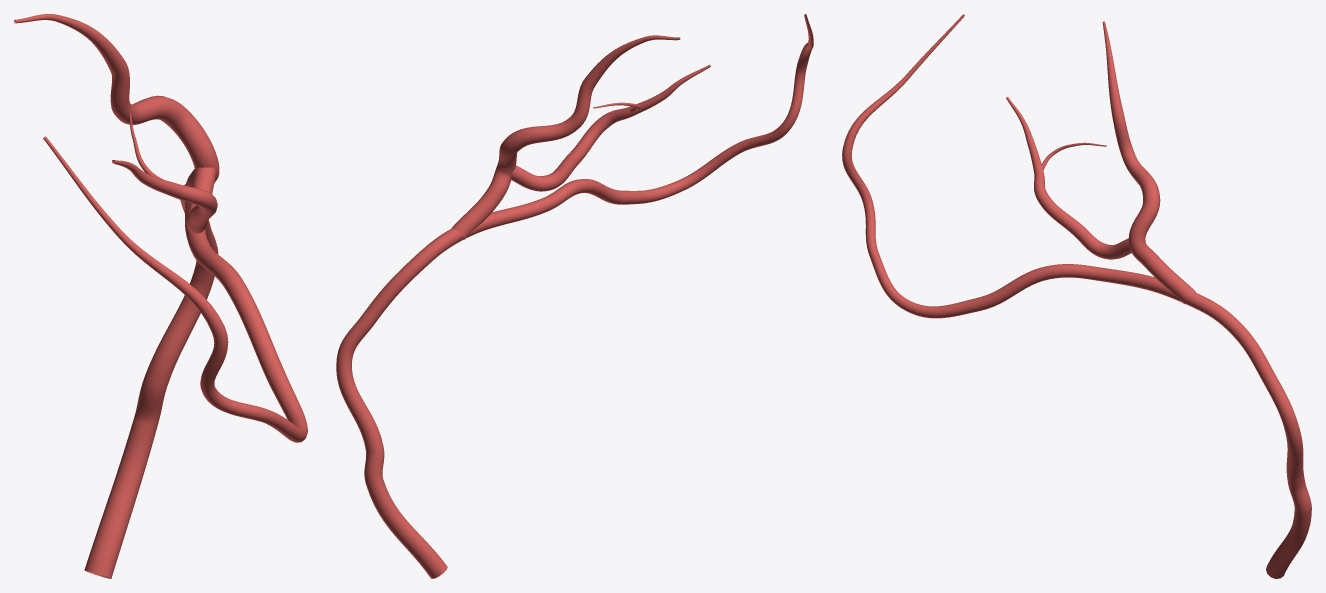
3 renders of one model, left to right at view 1: azimuth 30°, elevation 25°; view 2: azimuth 150°, elevation 25°; view 3: azimuth 270°, elevation 25°, orthographic. The views are drawn at different scales.
Parts seen in each view (by area): view 1: 左侧顶后动脉; view 2: 左侧顶后动脉; view 3: 左侧顶后动脉.
Boxes of the visible parts, x1,y1,x2,y2 form: 左侧顶后动脉: [14, 14, 307, 578]; 左侧顶后动脉: [336, 14, 813, 578]; 左侧顶后动脉: [842, 14, 1311, 578].
Bounding box in the file's own units: 0.039 × 0.064 × 0.0562.
